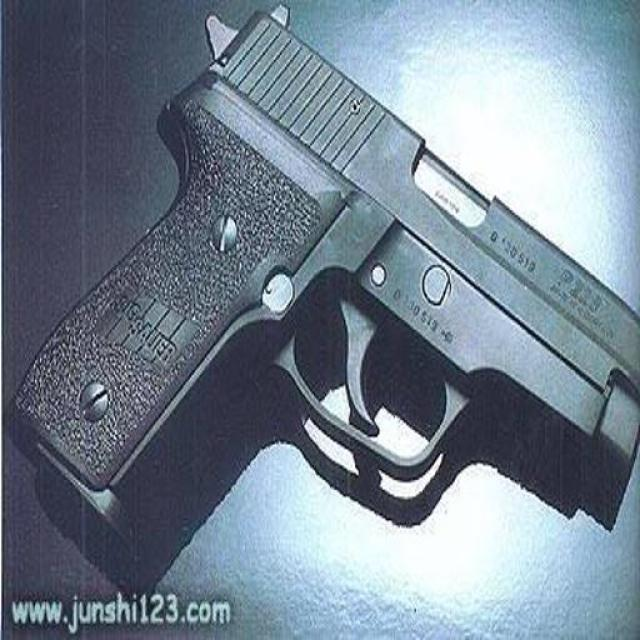pistol: (2, 4, 640, 546)
